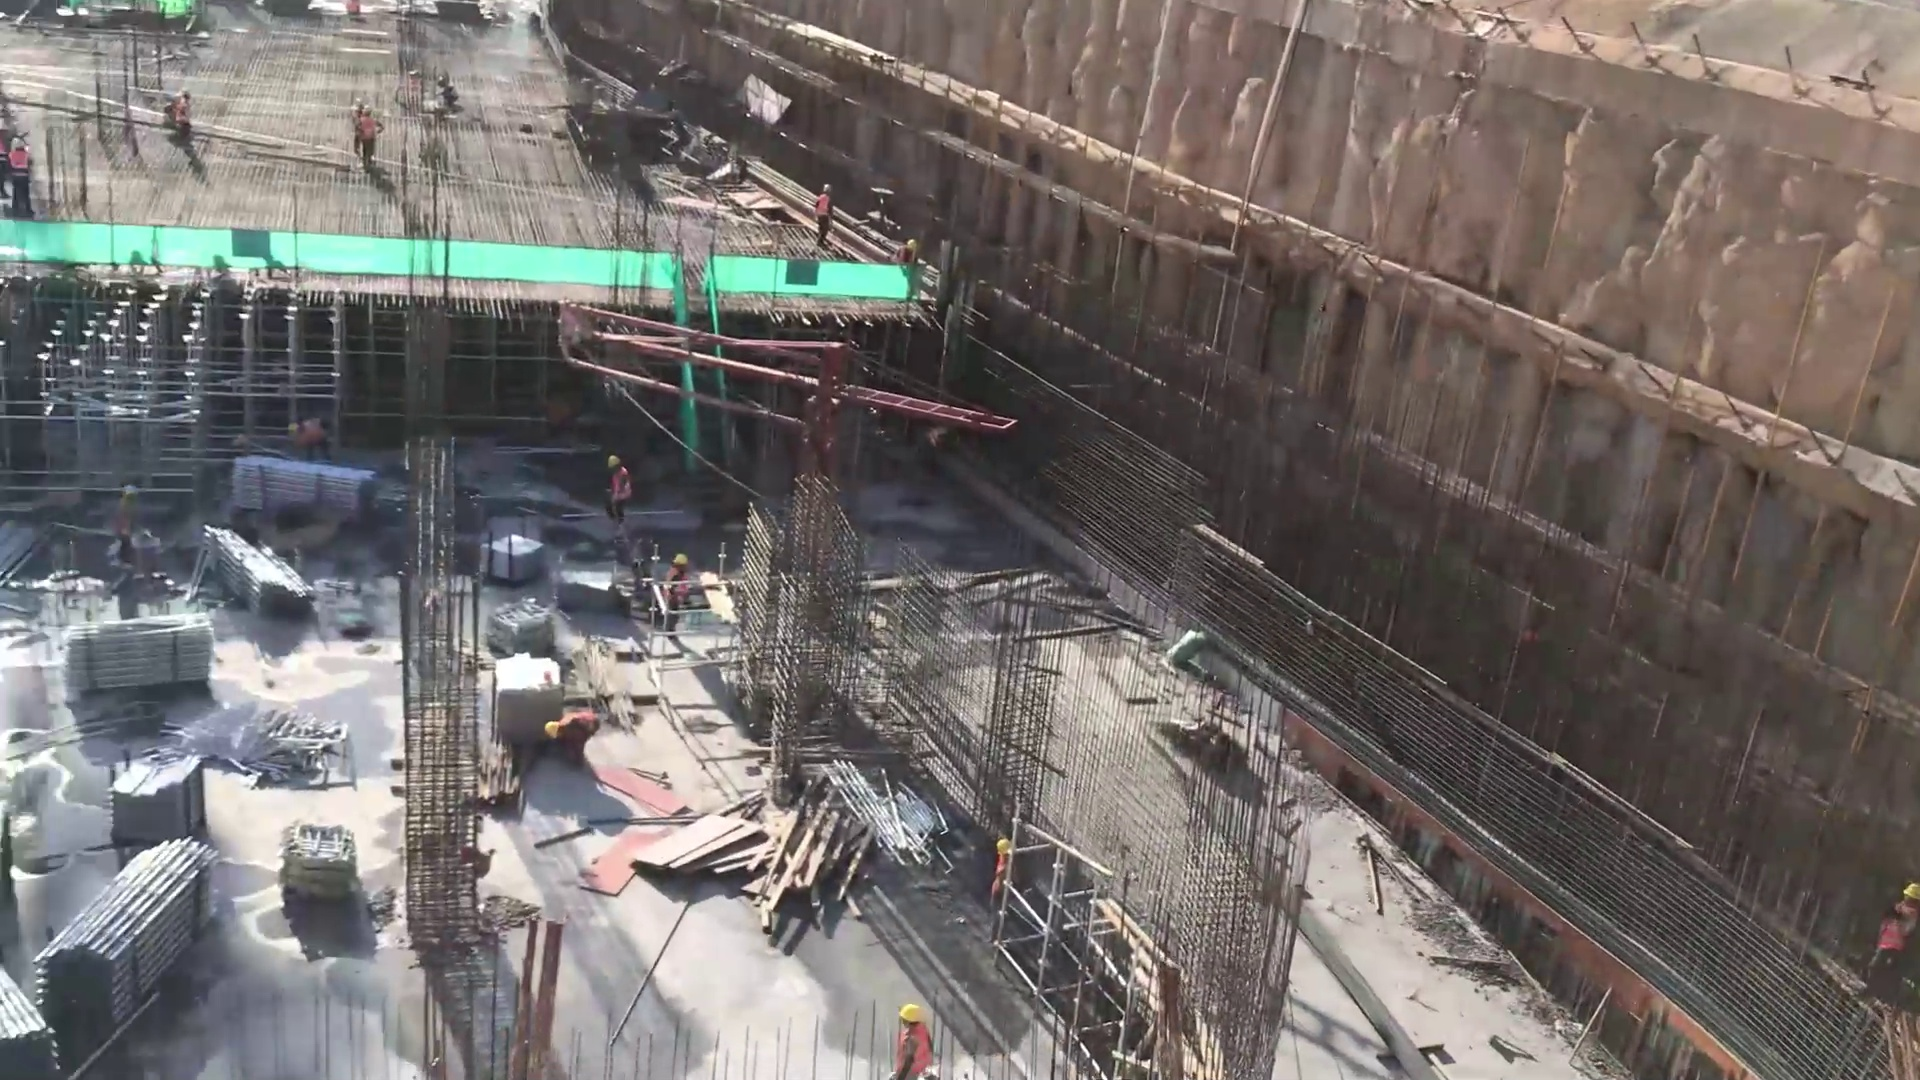helmet: (895, 999, 927, 1029), (666, 550, 691, 573), (286, 416, 303, 446), (540, 719, 561, 742), (1898, 883, 1920, 903), (603, 453, 624, 473), (993, 836, 1011, 859), (175, 85, 195, 104), (7, 135, 28, 152), (904, 237, 923, 256), (818, 182, 835, 200), (359, 102, 374, 121)
person: (1858, 876, 1920, 1004), (884, 998, 949, 1080), (654, 547, 701, 647), (985, 831, 1018, 952), (282, 409, 339, 474), (541, 710, 602, 767), (599, 447, 639, 533), (4, 133, 38, 225), (350, 100, 388, 174), (162, 83, 203, 145), (808, 177, 840, 248), (885, 234, 928, 272)
vest: (890, 1027, 940, 1076), (1870, 904, 1917, 956), (660, 572, 695, 608), (559, 710, 602, 738), (988, 860, 1012, 907), (9, 148, 32, 188), (302, 416, 329, 448), (357, 123, 383, 156), (609, 472, 634, 503), (167, 104, 191, 134), (816, 195, 834, 232), (890, 247, 921, 267)
